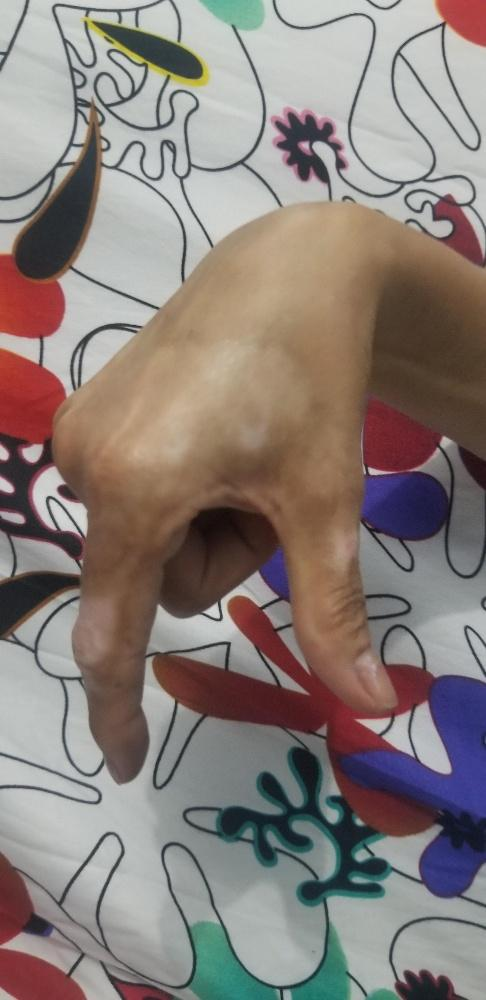q: (44, 195, 401, 786)
